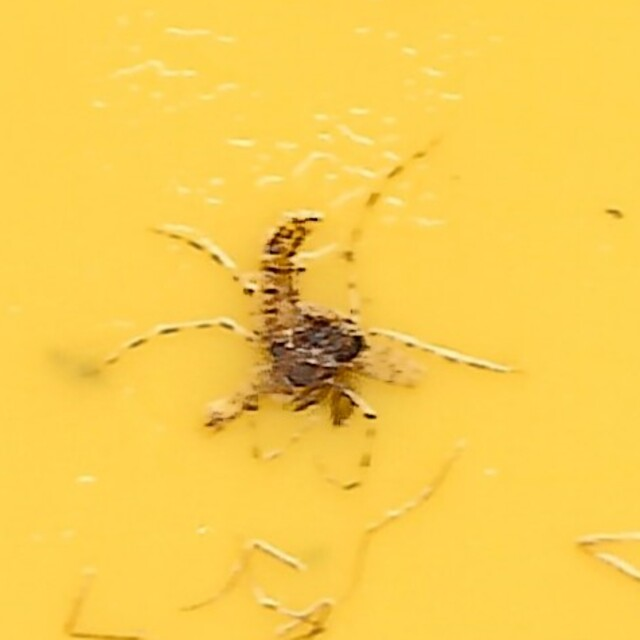Nematocera: (134, 142, 506, 498)
